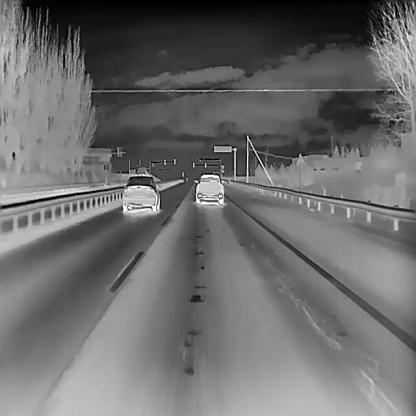car: (121, 173, 161, 211), (193, 172, 224, 204)
truck: (136, 167, 150, 179)
